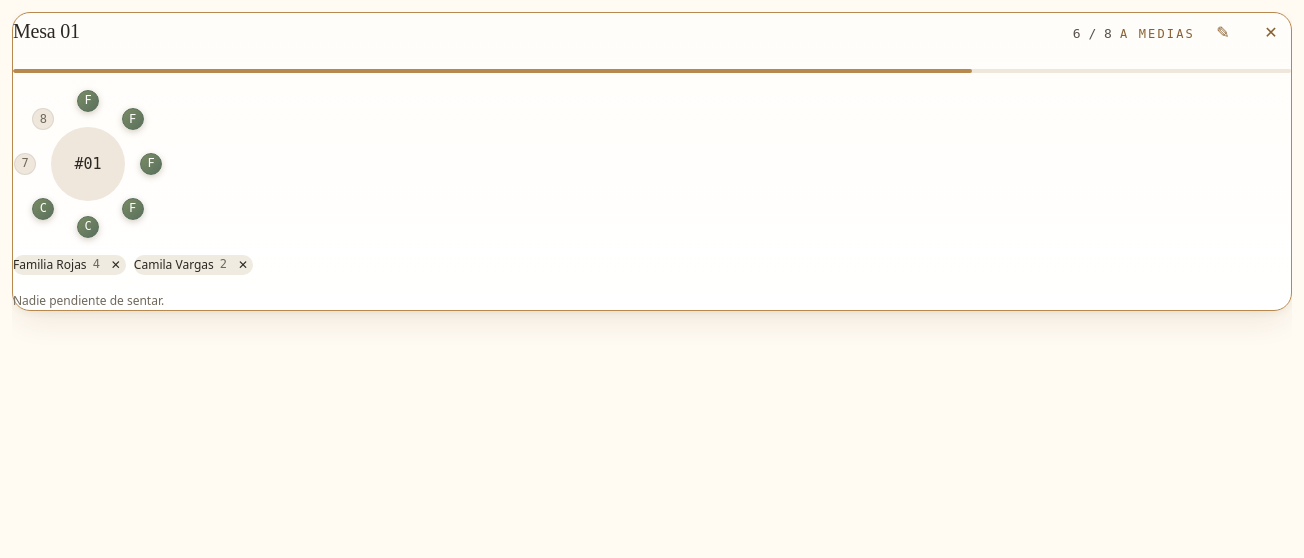
TableCard · corregir la mesa › abre el formulario relleno con los datos de la mesa
The width and height of the screenshot is (1304, 558).
Click the button named "editar mesa 01" at {"x": 1223, "y": 33}, box [1203, 13, 1243, 53]
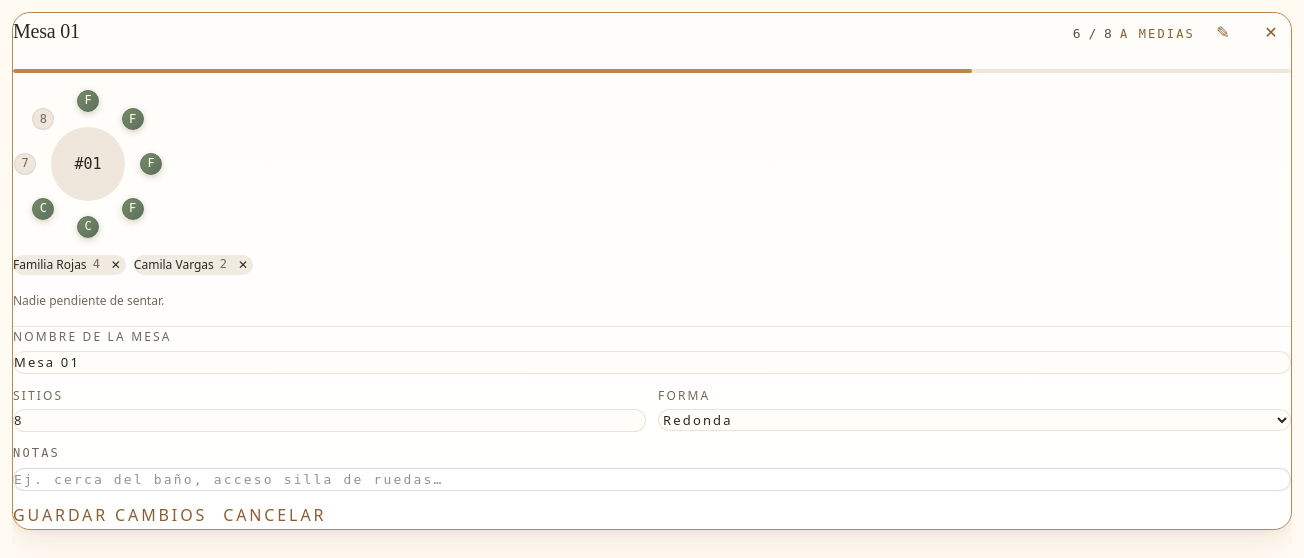
Now the field labelled "Nombre de la mesa" holds "Mesa 01", box [13, 351, 1291, 374]
Now the number field labelled "Sitios" holds "8", box [13, 409, 646, 432]
Now the dropdown labelled "Forma" shows "Redonda", box [658, 409, 1291, 431]
